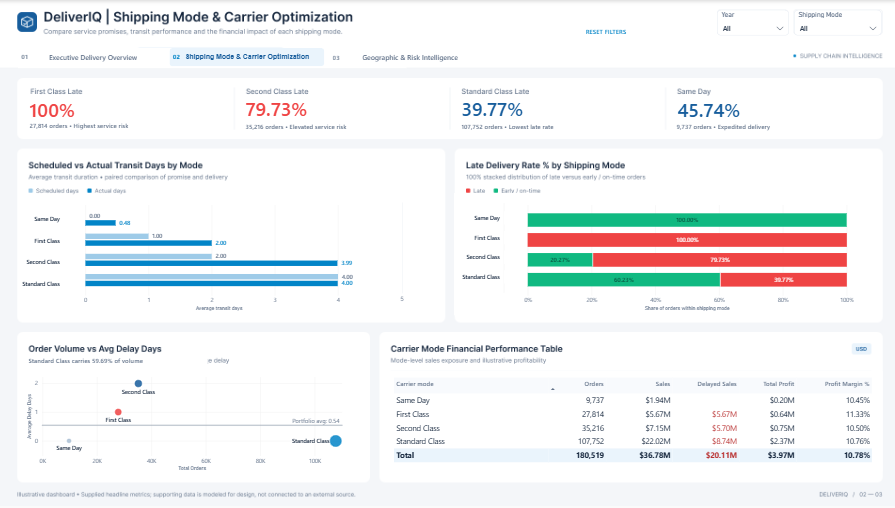

Layout of this report page (visuals, bound fields, positions):
{"tool":"powerbi","page":{"name":"Shipping Mode & Carrier Optimization","canvas":[1920,1080],"ordinal":1},"visuals":[{"type":"pageNavigator","box":[28.3,101.4,1004.3,39],"z":0,"group":"g2"},{"type":"shape","box":[42.9,101.4,825.7,42.9],"z":0},{"type":"group","id":"g1","title":"Group 3","box":[28.3,101.4,1004.3,39],"z":1000},{"type":"shape","box":[34,104.1,46,31.5],"z":1000,"group":"g2"},{"type":"cardVisual","fields":{"Data":["All Measures.first class late %"]},"box":[52,208,195,44.4],"z":2000},{"type":"slicer","title":"Year","fields":{"Values":["cleaned_supply_chain_data.order_date.Variation.Date Hierarchy.Year"]},"box":[1529.3,20.2,152.7,53.9],"z":3000},{"type":"actionButton","box":[1192.9,50,200,27.1],"z":4000},{"type":"group","id":"g2","title":"Group 1","box":[28.3,101.4,1004.3,39],"z":5000,"group":"g3"},{"type":"cardVisual","fields":{"Data":["All Measures.second class late %"]},"box":[510,208,196,44.4],"z":5000},{"type":"shape","box":[361.2,104.4,35.7,33],"z":6000,"group":"g3"},{"type":"cardVisual","fields":{"Data":["All Measures.standard class late %"]},"box":[969,209.1,196,44.4],"z":6000},{"type":"cardVisual","fields":{"Data":["All Measures.same day late %"]},"box":[1428,209.4,196,44.4],"z":7000},{"type":"group","id":"g3","title":"Group 2","box":[28.3,101.4,1004.3,39],"z":7500,"group":"g1"},{"type":"slicer","title":"Year","fields":{"Values":["cleaned_supply_chain_data.shipping_mode"]},"box":[1693.2,20.2,186.4,53.9],"z":8000},{"type":"shape","box":[702,105.1,35,31.5],"z":8000,"group":"g1"},{"type":"cardVisual","fields":{"Data":["All Measures.first class late icon"]},"box":[51.5,256.2,264.6,24.6],"z":10000},{"type":"cardVisual","fields":{"Data":["All Measures.second class late icon"]},"box":[510,256.7,264.6,24.6],"z":11000},{"type":"cardVisual","fields":{"Data":["All Measures.standard class late icon"]},"box":[968.9,256.7,264.6,24.6],"z":12000},{"type":"cardVisual","fields":{"Data":["All Measures.same day late icon"]},"box":[1426.7,256.7,264.4,24.4],"z":13000},{"type":"shape","box":[52.2,433.7,141.3,176.1],"z":14000},{"type":"clusteredBarChart","fields":{"Category":["cleaned_supply_chain_data.shipping_mode"],"Y":["Avg(cleaned_supply_chain_data.days_for_shipment_scheduled)","Avg(cleaned_supply_chain_data.days_for_shipping_real)"]},"box":[34.1,414.8,195.5,268.2],"z":15000},{"type":"hundredPercentStackedBarChart","fields":{"Category":["cleaned_supply_chain_data.shipping_mode"],"Series":["cleaned_supply_chain_data.delivery_performance (groups)"],"Y":["CountNonNull(cleaned_supply_chain_data.delivery_performance (groups))"]},"box":[970,410,196,260],"z":17000},{"type":"tableEx","fields":{"Values":["cleaned_supply_chain_data.shipping_mode","All Measures.Total Orders","All Measures.Total Sales","All Measures.delayed sales","All Measures.Total Profit","All Measures.Profit Margin %"]},"box":[824.3,788.6,1055.7,212.9],"z":18000},{"type":"scatterChart","fields":{"Category":["cleaned_supply_chain_data.shipping_mode"],"Size":["All Measures.Total Sales"],"X":["All Measures.Total Orders"],"Y":["All Measures.Average Delay Days"]},"box":[44.7,780,716.5,237.6],"z":19000},{"type":"cardVisual","fields":{"Data":["All Measures.order volume vs avg delay days icon"]},"box":[48,754.1,397.6,25.9],"z":20000},{"type":"hundredPercentStackedBarChart","fields":{"Category":["cleaned_supply_chain_data.shipping_mode"],"Series":["cleaned_supply_chain_data.delivery_performance (groups)"],"Y":["CountNonNull(cleaned_supply_chain_data.delivery_performance (groups))"]},"box":[1102,414,734,262],"z":20500},{"type":"clusteredBarChart","fields":{"Category":["cleaned_supply_chain_data.shipping_mode"],"Y":["Avg(cleaned_supply_chain_data.days_for_shipment_scheduled)","Avg(cleaned_supply_chain_data.days_for_shipping_real)"]},"box":[166,414,608,262],"z":21000}]}

Visuals, with their boxes in screenshot pixels (x1, y1, x2, y2), scaled from the page's 1920x1080 canvas onto the 895x508 screenshot:
pageNavigator: region(13, 48, 481, 66)
shape: region(20, 48, 405, 68)
"Group 3" group: region(13, 48, 481, 66)
shape: region(16, 49, 37, 64)
cardVisual - All Measures.first class late %: region(24, 98, 115, 119)
"Year" slicer: region(713, 10, 784, 35)
actionButton: region(556, 24, 649, 36)
"Group 1" group: region(13, 48, 481, 66)
cardVisual - All Measures.second class late %: region(238, 98, 329, 119)
shape: region(168, 49, 185, 65)
cardVisual - All Measures.standard class late %: region(452, 98, 543, 119)
cardVisual - All Measures.same day late %: region(666, 98, 757, 119)
"Group 2" group: region(13, 48, 481, 66)
"Year" slicer: region(789, 10, 876, 35)
shape: region(327, 49, 344, 64)
cardVisual - All Measures.first class late icon: region(24, 121, 147, 132)
cardVisual - All Measures.second class late icon: region(238, 121, 361, 132)
cardVisual - All Measures.standard class late icon: region(452, 121, 575, 132)
cardVisual - All Measures.same day late icon: region(665, 121, 788, 132)
shape: region(24, 204, 90, 287)
clusteredBarChart - cleaned_supply_chain_data.shipping_mode x Avg(cleaned_supply_chain_data.days_for_shipment_scheduled): region(16, 195, 107, 321)
hundredPercentStackedBarChart - cleaned_supply_chain_data.shipping_mode x cleaned_supply_chain_data.delivery_performance (groups): region(452, 193, 544, 315)
tableEx - cleaned_supply_chain_data.shipping_mode x All Measures.Total Orders: region(384, 371, 876, 471)
scatterChart - cleaned_supply_chain_data.shipping_mode x All Measures.Total Sales: region(21, 367, 355, 479)
cardVisual - All Measures.order volume vs avg delay days icon: region(22, 355, 208, 367)
hundredPercentStackedBarChart - cleaned_supply_chain_data.shipping_mode x cleaned_supply_chain_data.delivery_performance (groups): region(514, 195, 856, 318)
clusteredBarChart - cleaned_supply_chain_data.shipping_mode x Avg(cleaned_supply_chain_data.days_for_shipment_scheduled): region(77, 195, 361, 318)
